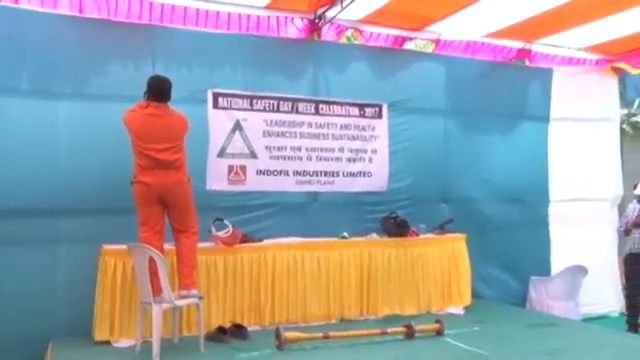helmet: (633, 180, 640, 197)
helmet_off: (139, 73, 170, 106)
helmet_on: (632, 180, 640, 206)
person: (122, 73, 208, 301), (617, 178, 640, 336)
